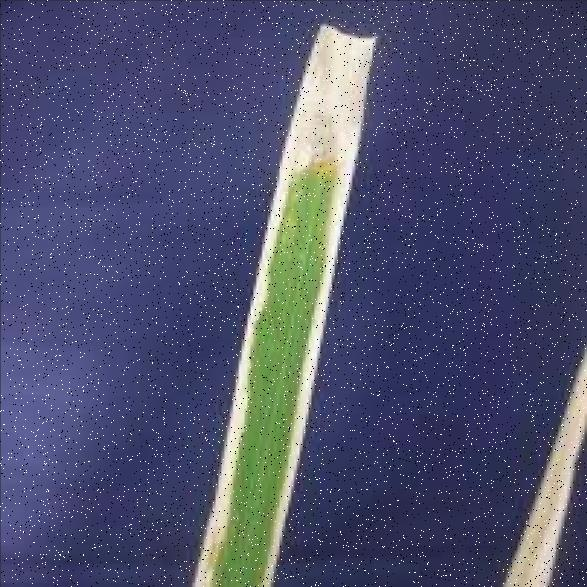Bacteria_Leaf_Blight: (180, 19, 380, 580)
